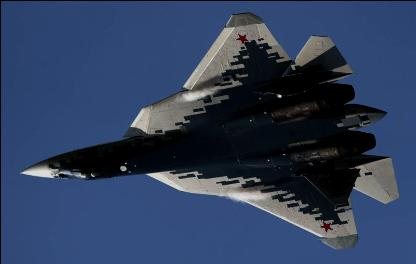SR71: (17, 11, 399, 250)
